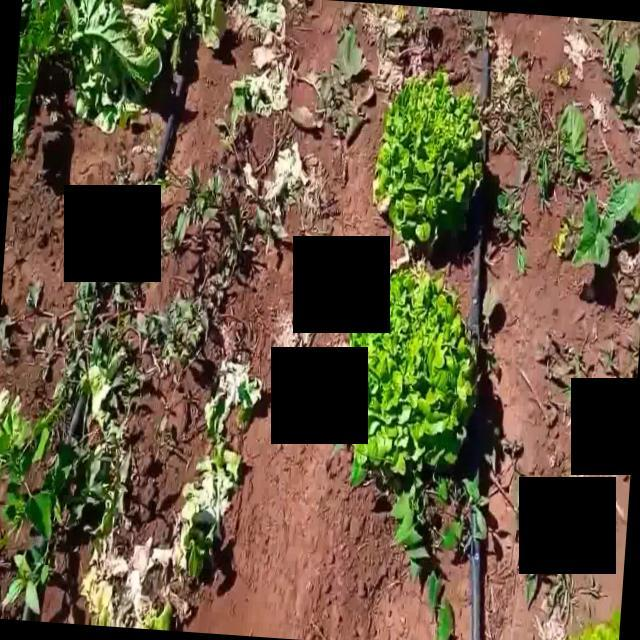Lettuce: (346, 264, 482, 478), (368, 67, 488, 248)
